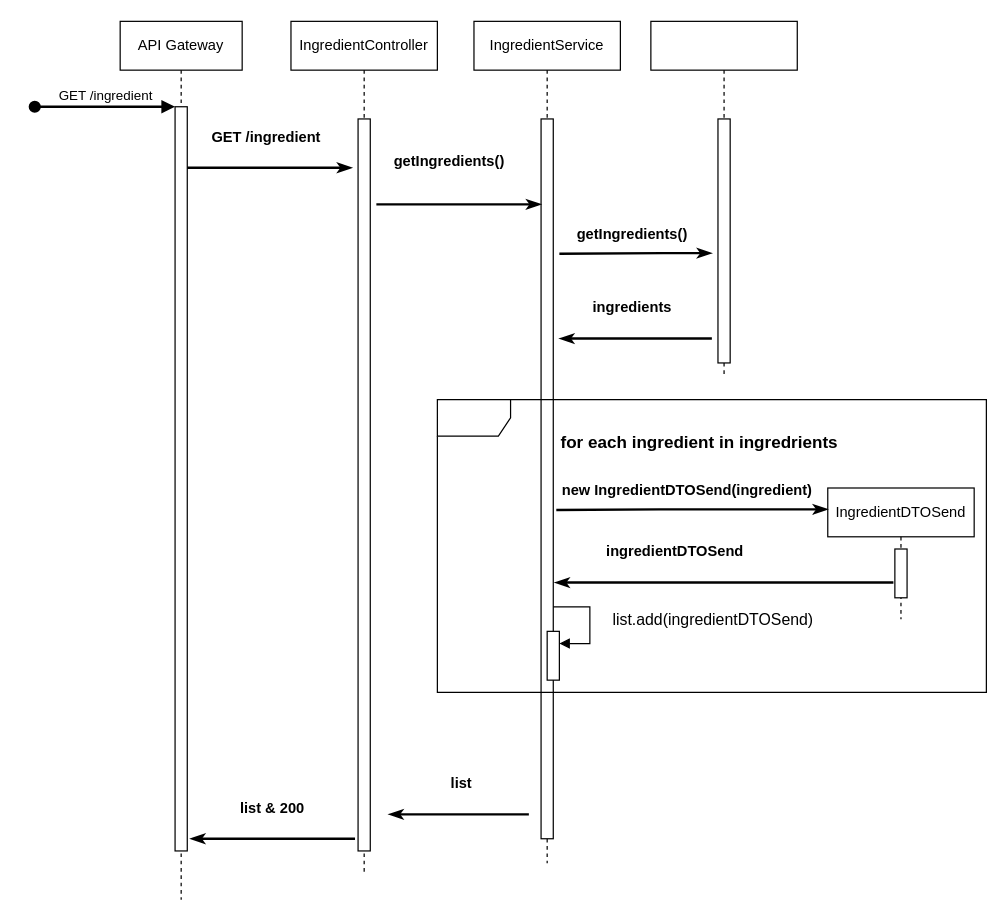
Some shapes in this 1008 by 921 pixel diagram are drawn without their labels. The box of each missing label's shape, as (x1, y1, x2, y2) in pixels:
IngredientRepository: (650, 20, 797, 375)
loop: (436, 398, 986, 692)
